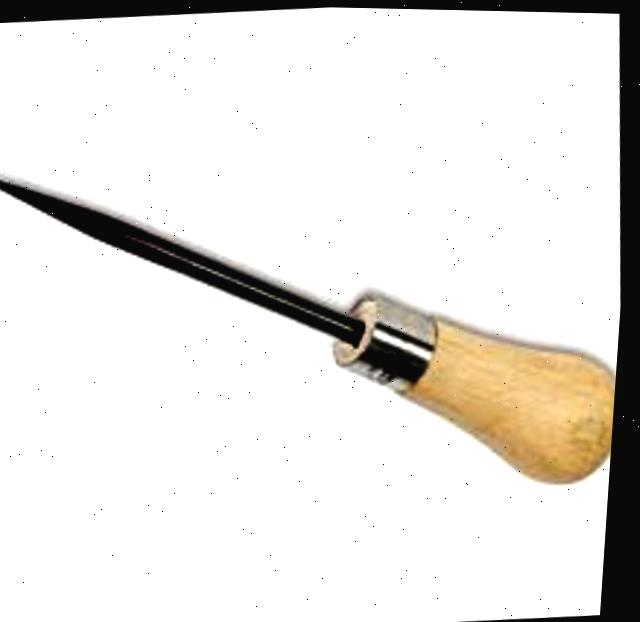ice pick: (0, 128, 633, 519)
